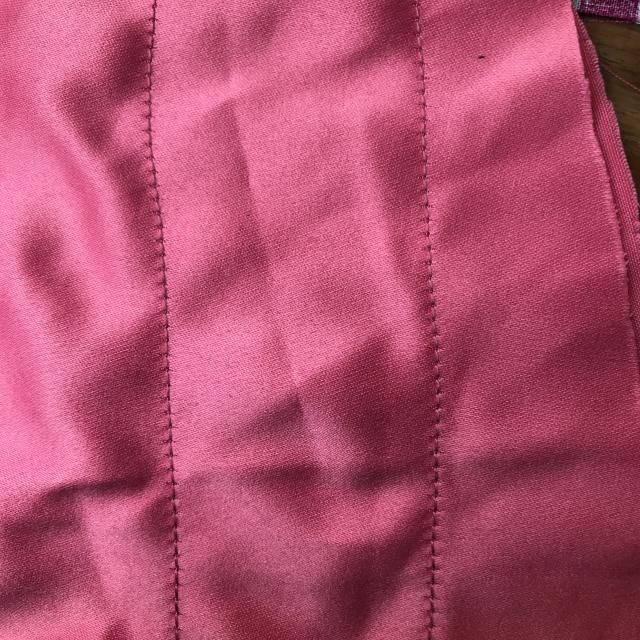good: (420, 243, 460, 454)
